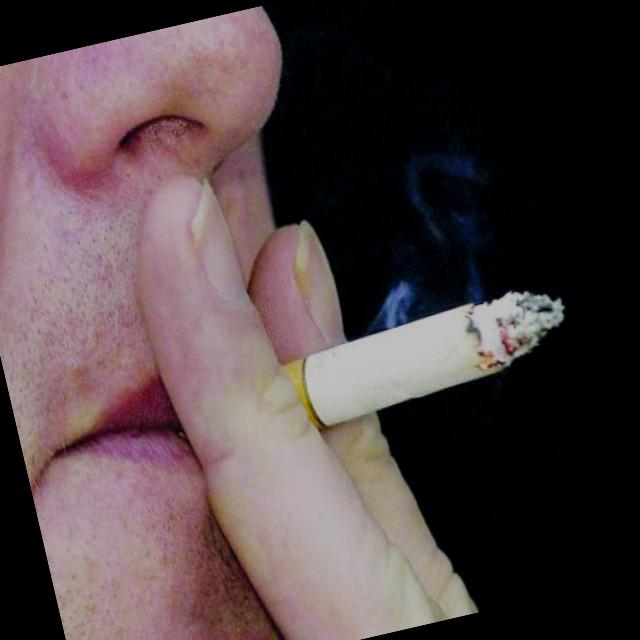smoke: (276, 278, 588, 440)
